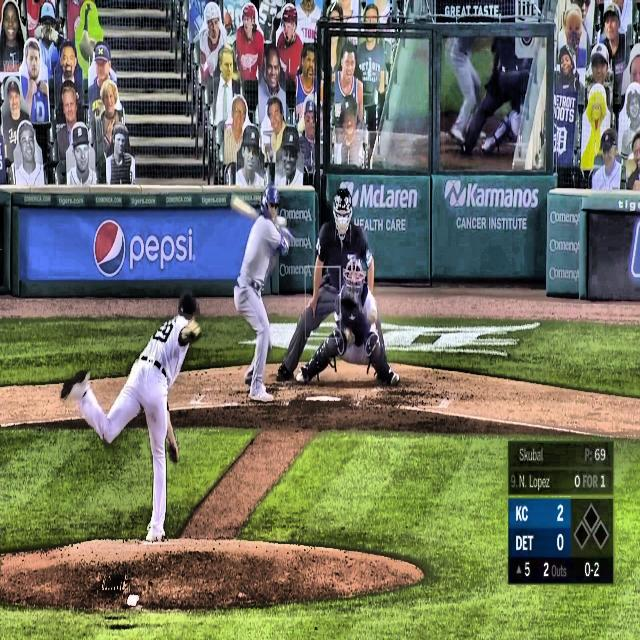baseball: (275, 214, 287, 228)
